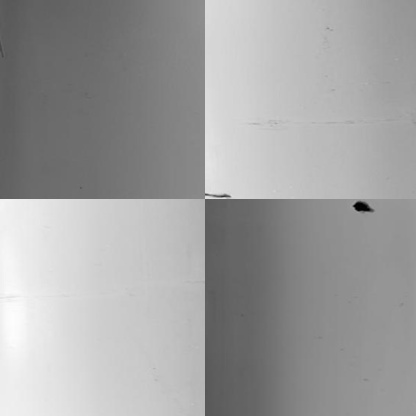fengxi: (202, 188, 231, 200)
kongdong: (351, 198, 372, 216)
